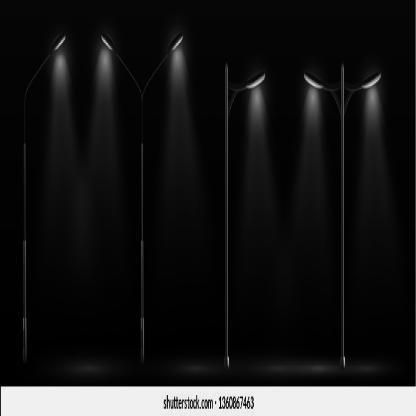on: (44, 9, 383, 125)
